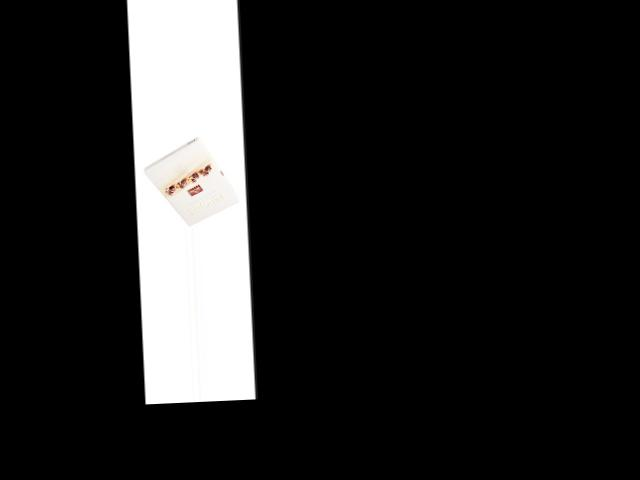chocolate: (134, 133, 240, 227)
